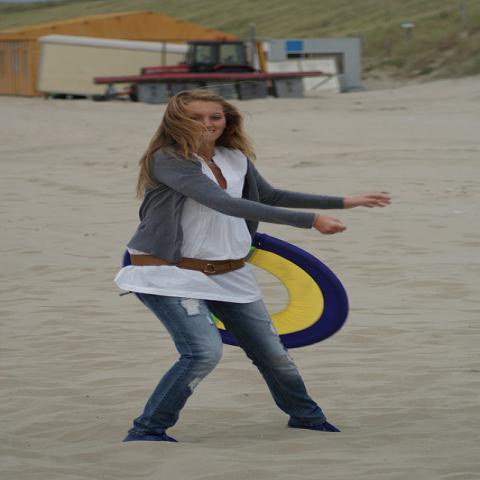truck: (37, 38, 339, 101)
